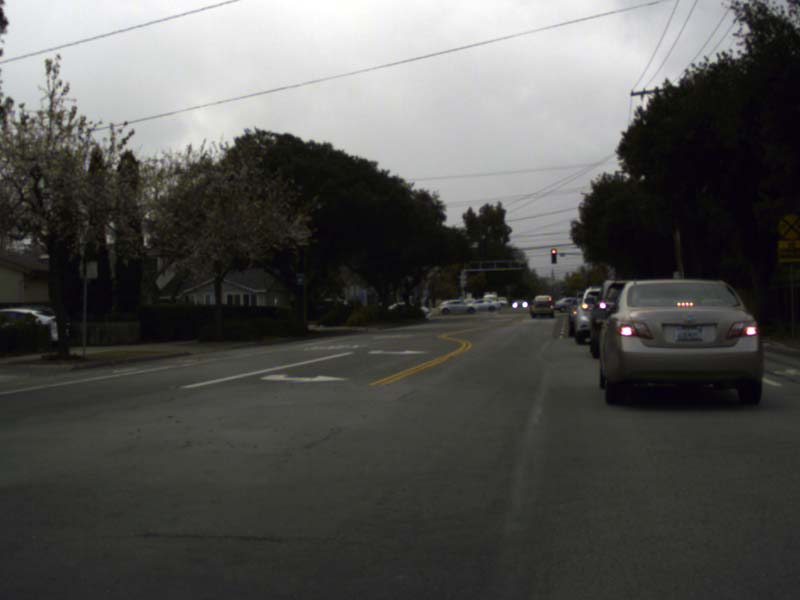Red: (550, 248, 556, 263)
